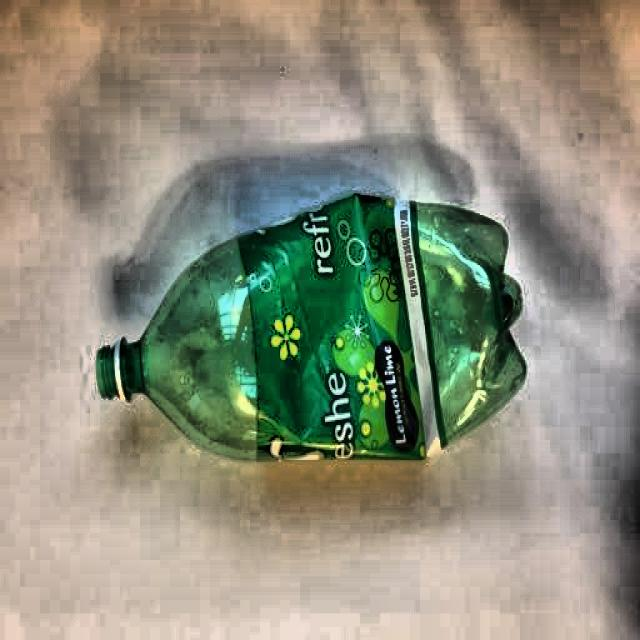plastic: (92, 192, 528, 466)
